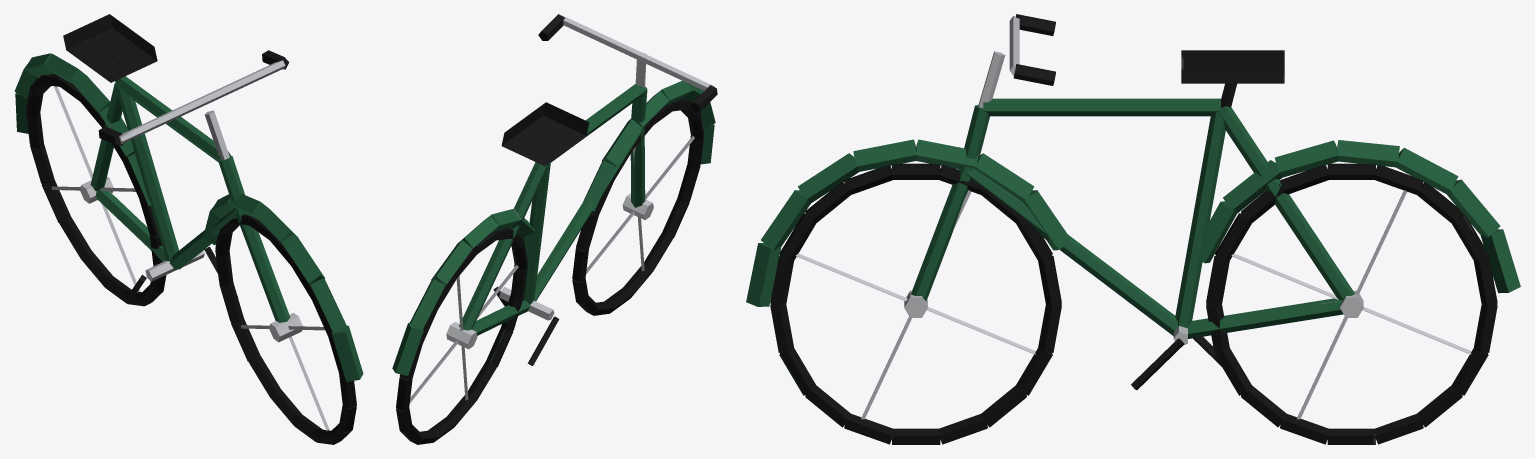
Rendered from kolo_5f806ab9.glb.
3 renders of one model, left to right at view 1: azimuth 30°, elevation 25°; view 2: azimuth 150°, elevation 25°; view 3: azimuth 270°, elevation 25°, orthographic. The views are drawn at different scales.
Visible parts, largest first — view 1: dum; view 2: dum; view 3: dum.
Part boxes in pixels (x1=…): dum: x1=14, y1=14, x2=363, y2=444; dum: x1=392, y1=14, x2=717, y2=444; dum: x1=746, y1=14, x2=1520, y2=444.
Bounding box in the file's own units: 0.5867 × 1.09 × 1.95.
1 material, 1 textured.
